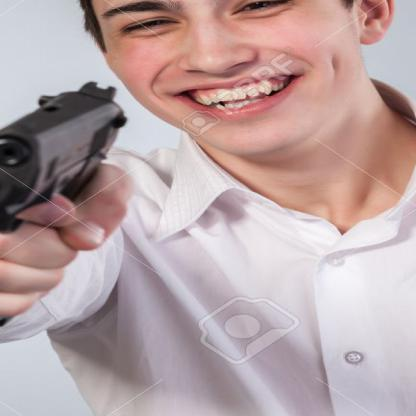gun: (0, 67, 149, 263)
